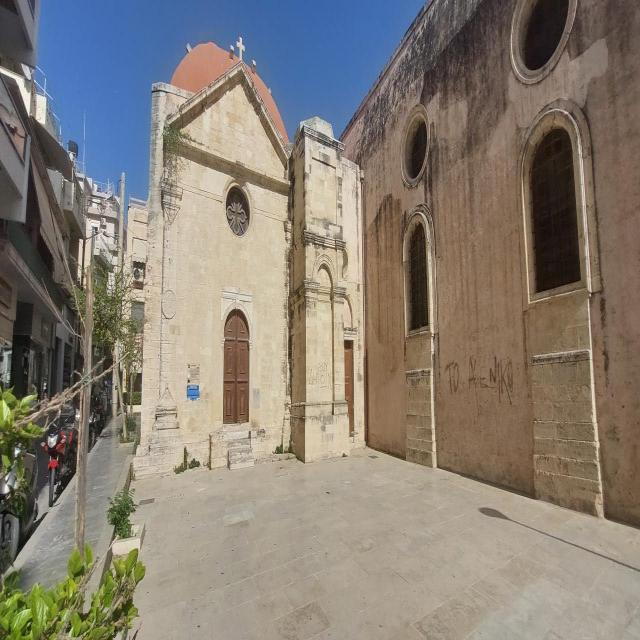Agia Aikaterini: (141, 1, 640, 522)
